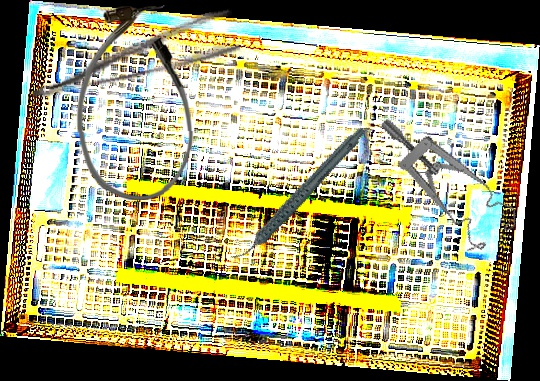Cannula: (74, 4, 196, 202)
Dressing Forceps: (22, 7, 242, 103)
Handpiece: (209, 125, 387, 263)
Speculum: (379, 86, 524, 268)
